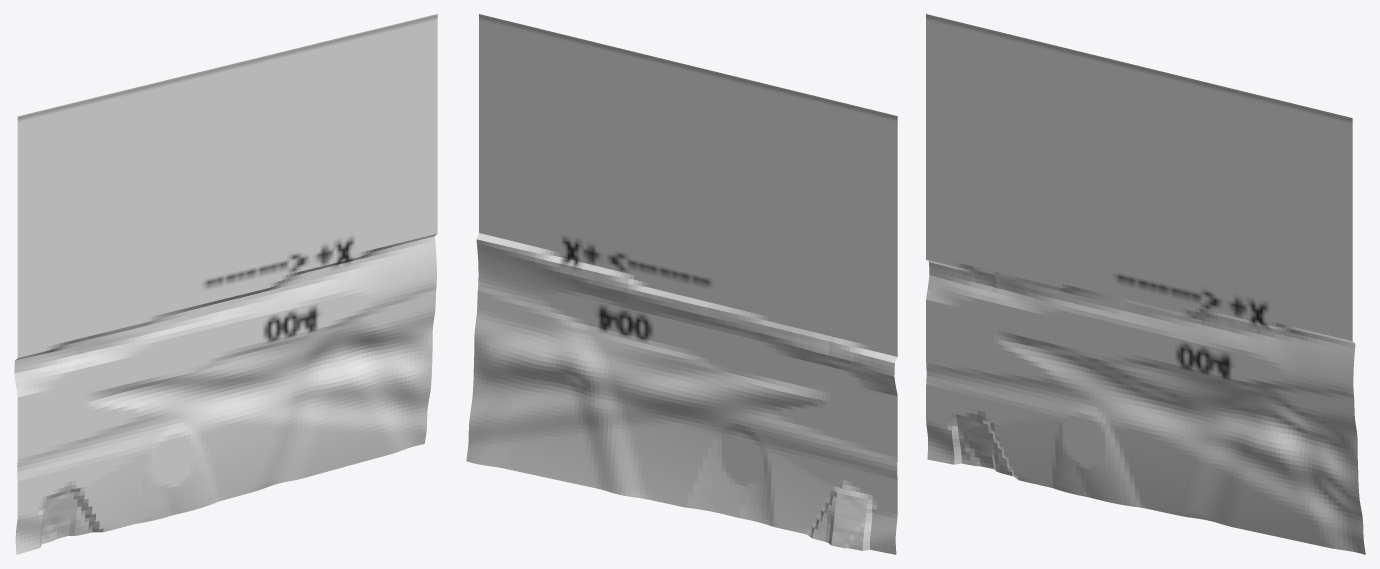
3 views of the same model, side by side, from view 1: azimuth 30°, elevation 25°; view 2: azimuth 150°, elevation 25°; view 3: azimuth 330°, elevation 25° (orthographic).
Parts seen in each view (by area): view 1: Ground004; view 2: Ground004; view 3: Ground004.
Part boxes in pixels (x1,y1,x2,y2): Ground004: (14,14,437,554); Ground004: (466,14,897,554); Ground004: (926,14,1365,554).
Size of what is drawn, in the model's own units: 100 by 5.41 by 100.
1 material, 1 textured.
